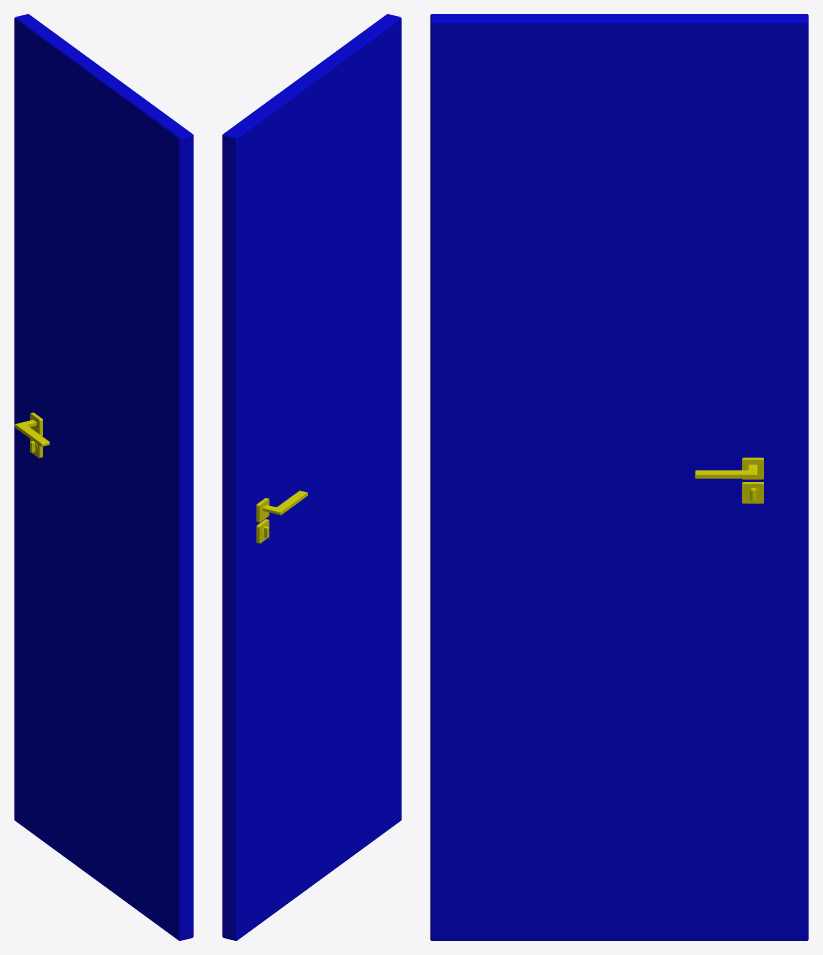
The model's file is Door_Body.fbx.
3 views of the same model, side by side, from view 1: azimuth 30°, elevation 25°; view 2: azimuth 150°, elevation 25°; view 3: azimuth 270°, elevation 25° (orthographic). The views are drawn at different scales.
Visible parts, largest first — view 1: Door_Body; view 2: Door_Body; view 3: Door_Body.
Part boxes in pixels (left/top/right/bottom): Door_Body: left=14, top=14, right=193, bottom=940; Door_Body: left=222, top=14, right=401, bottom=940; Door_Body: left=430, top=14, right=808, bottom=940.
Bounding box in the file's own units: 0.1545 × 2.04 × 0.76.
